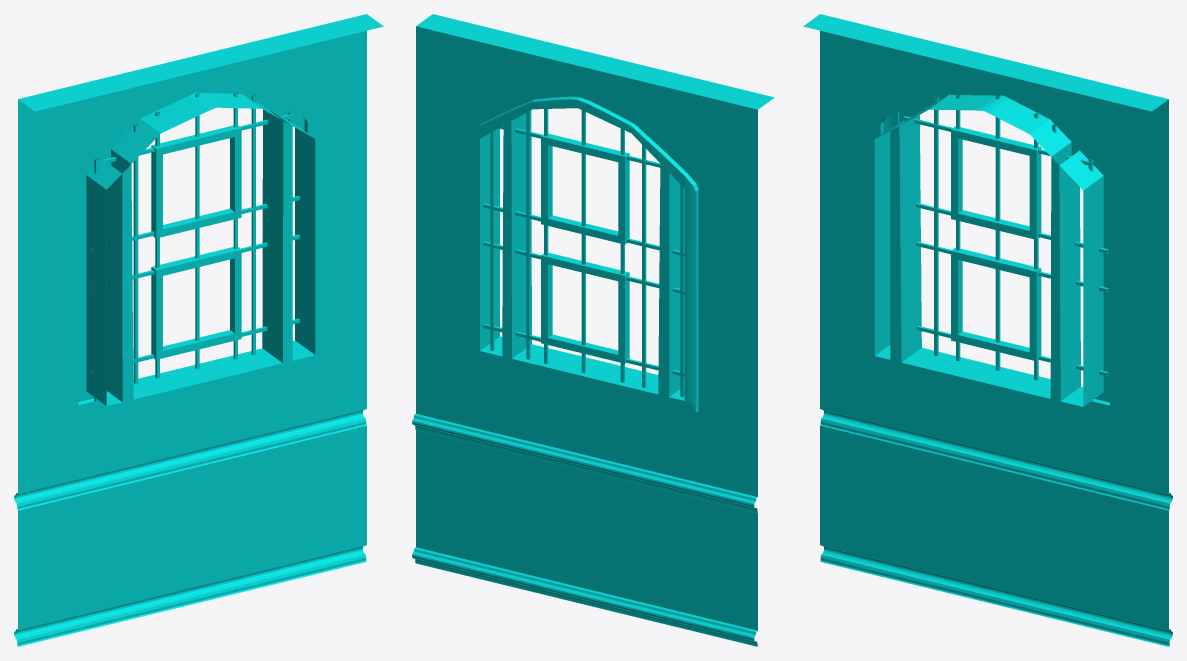
Rendered from SetoModWallWindow.fbx.
The picture shows the model from 3 angles, left to right: view 1: azimuth 30°, elevation 25°; view 2: azimuth 150°, elevation 25°; view 3: azimuth 330°, elevation 25°; orthographic projection.
Visible parts, largest first — view 1: ModWallWindow; view 2: ModWallWindow; view 3: ModWallWindow.
Part boxes in pixels (left/top/right/bottom): ModWallWindow: left=14, top=14, right=383, bottom=646; ModWallWindow: left=412, top=14, right=774, bottom=646; ModWallWindow: left=803, top=14, right=1172, bottom=646.
Size of the model in its own units: 240 by 360 by 25.12.
